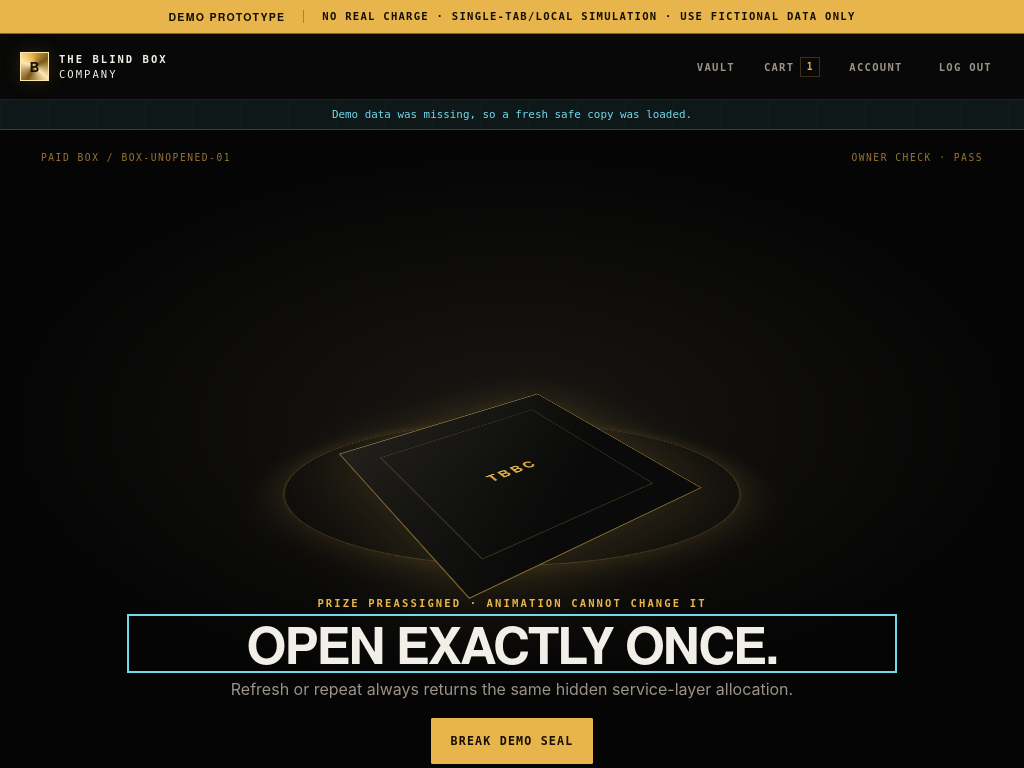
Test: app components › focuses and announces a paid box result after the reveal animation
The image size is (1024, 768).
Click the button "Break demo seal" at (512, 741), box 430,718 -> 593,764
Wait 1700 ms
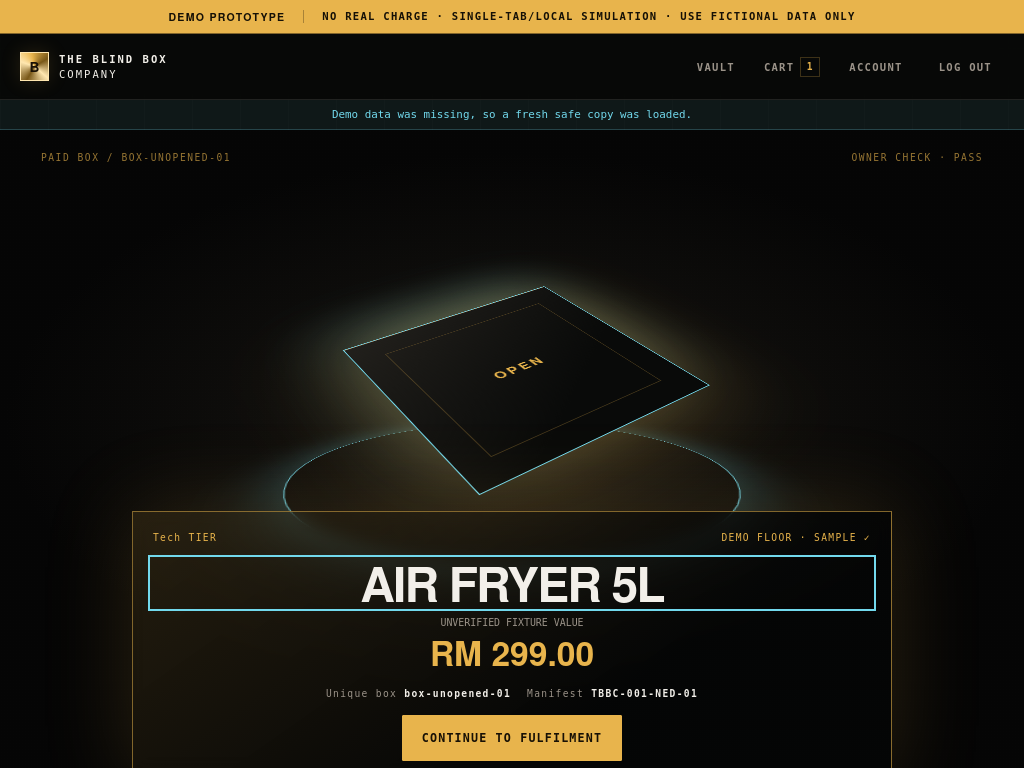
Now the button "Break demo seal" is gone
